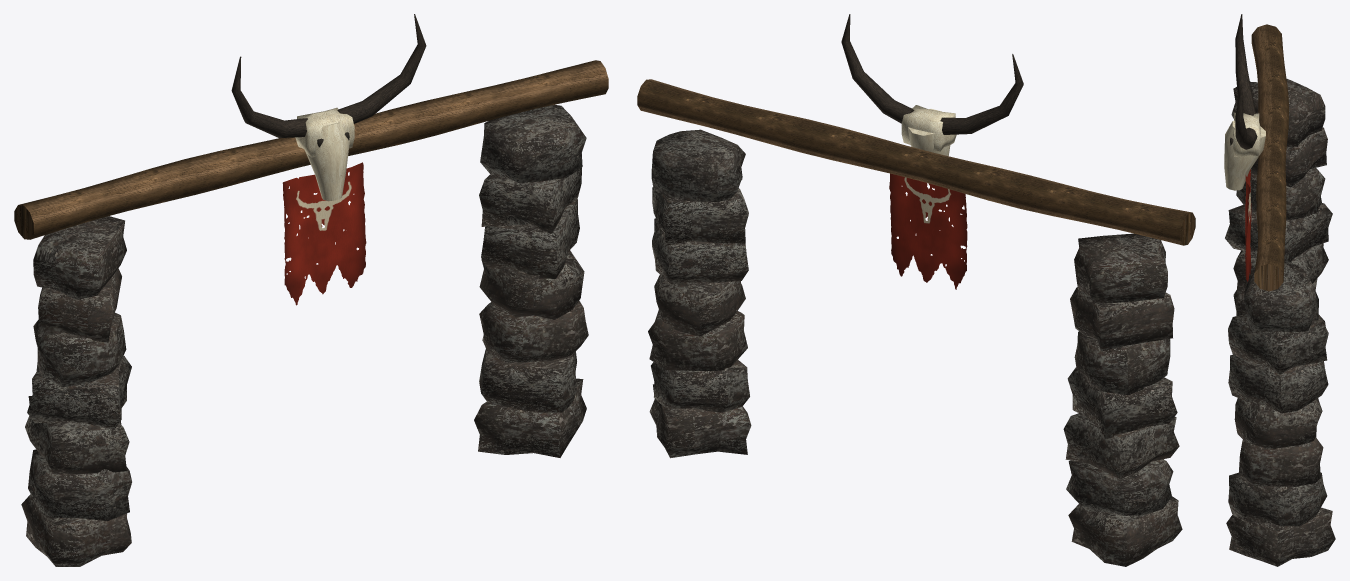
File: SM_Bld_Stone_Gate.gltf
3 renders of one model, left to right at view 1: azimuth 30°, elevation 25°; view 2: azimuth 150°, elevation 25°; view 3: azimuth 270°, elevation 25°, orthographic. The views are drawn at different scales.
Visible parts, largest first — view 1: SM_Bld_Stone_Gate; view 2: SM_Bld_Stone_Gate; view 3: SM_Bld_Stone_Gate.
Part boxes in pixels (bbox=[...]): SM_Bld_Stone_Gate: bbox=[14, 14, 608, 566]; SM_Bld_Stone_Gate: bbox=[637, 14, 1195, 566]; SM_Bld_Stone_Gate: bbox=[1224, 14, 1335, 566].
Bounding box in the file's own units: 7.42 × 5.85 × 1.44.
Materials: 6 (5 with a texture image).
